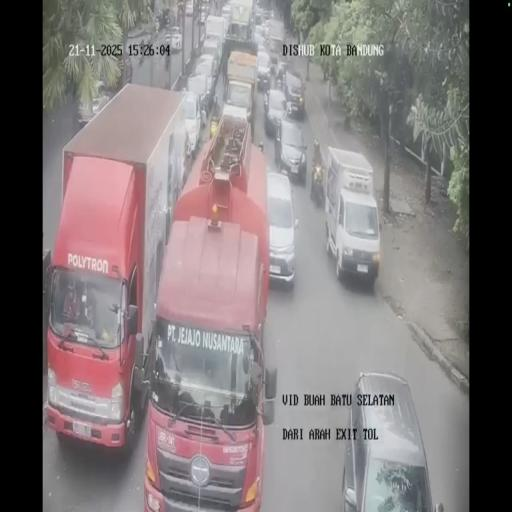car: (275, 117, 307, 182), (186, 73, 210, 133), (263, 88, 288, 136), (283, 69, 305, 119), (200, 37, 222, 79), (255, 49, 271, 88), (220, 4, 232, 29), (268, 50, 278, 72), (260, 20, 270, 40), (260, 7, 270, 22)
truck: (46, 82, 194, 454), (325, 148, 379, 284)
